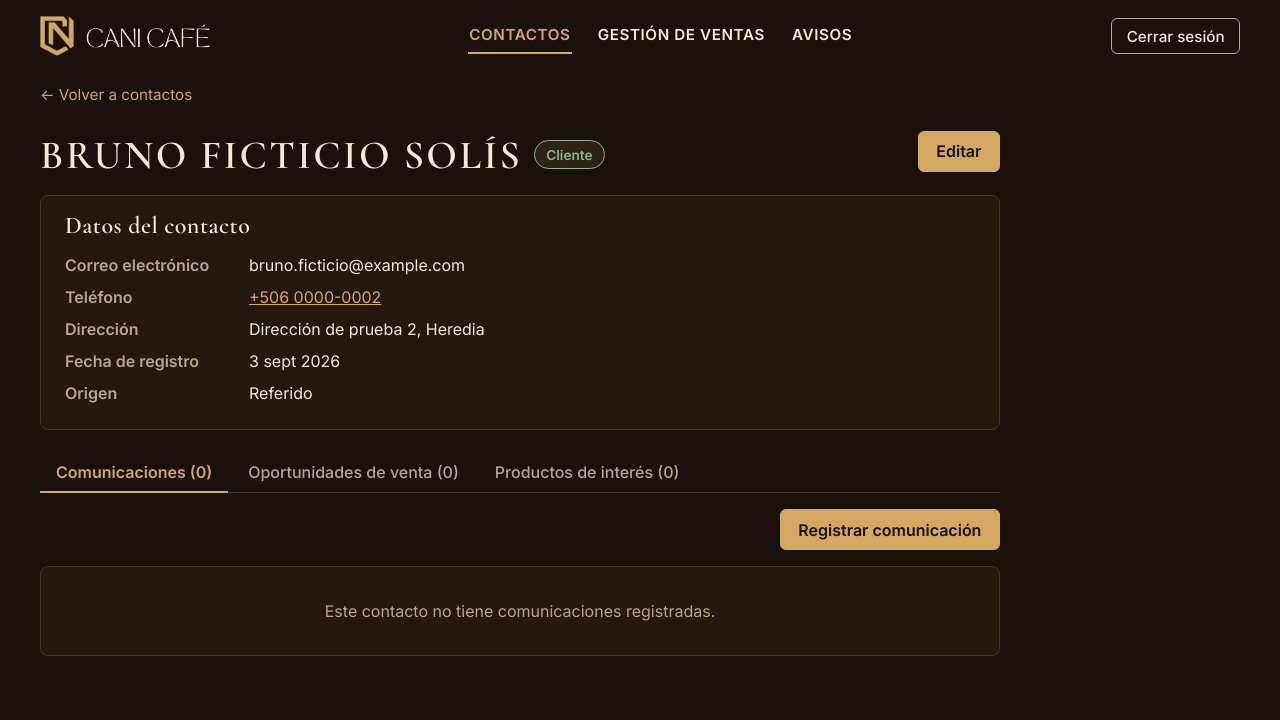
Scenario: HU-210 Editar un contacto › criterio 1: en la ficha, arriba a la derecha, está "Editar"; abre el formulario con los datos actuales
Click the button "Editar".
click(959, 151)  # box [918,131,1000,172]
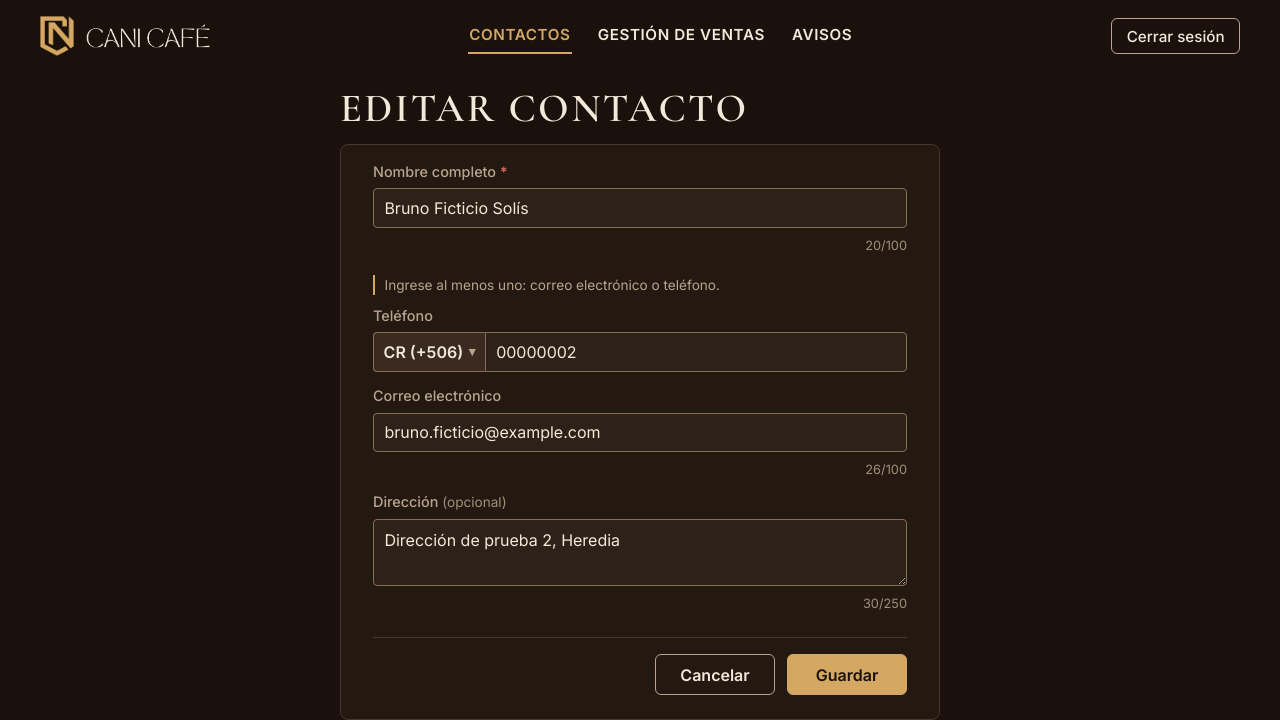
Expected: the heading "Editar contacto" is shown, [340,84,748,132]
Expected: the field labelled "Nombre completo" holds "Bruno Ficticio Solís", [373,188,907,228]
Expected: the field labelled "Correo electrónico" holds "bruno.ficticio@example.com", [373,412,907,452]
